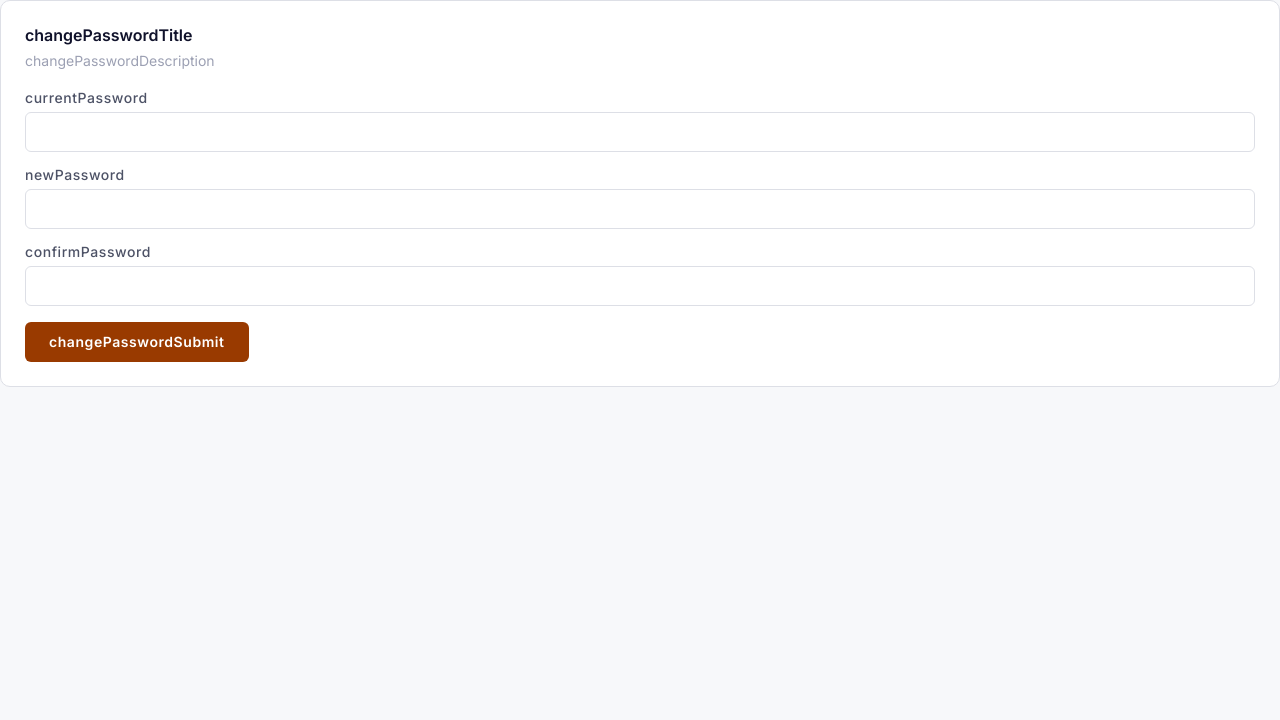
Test: ChangePasswordForm › shows validation error when passwords do not match
This screenshot has width=1280, height=720.
Type "OldPass1!" into the password field labelled "currentPassword" at (640, 132), box [25,112,1255,152]
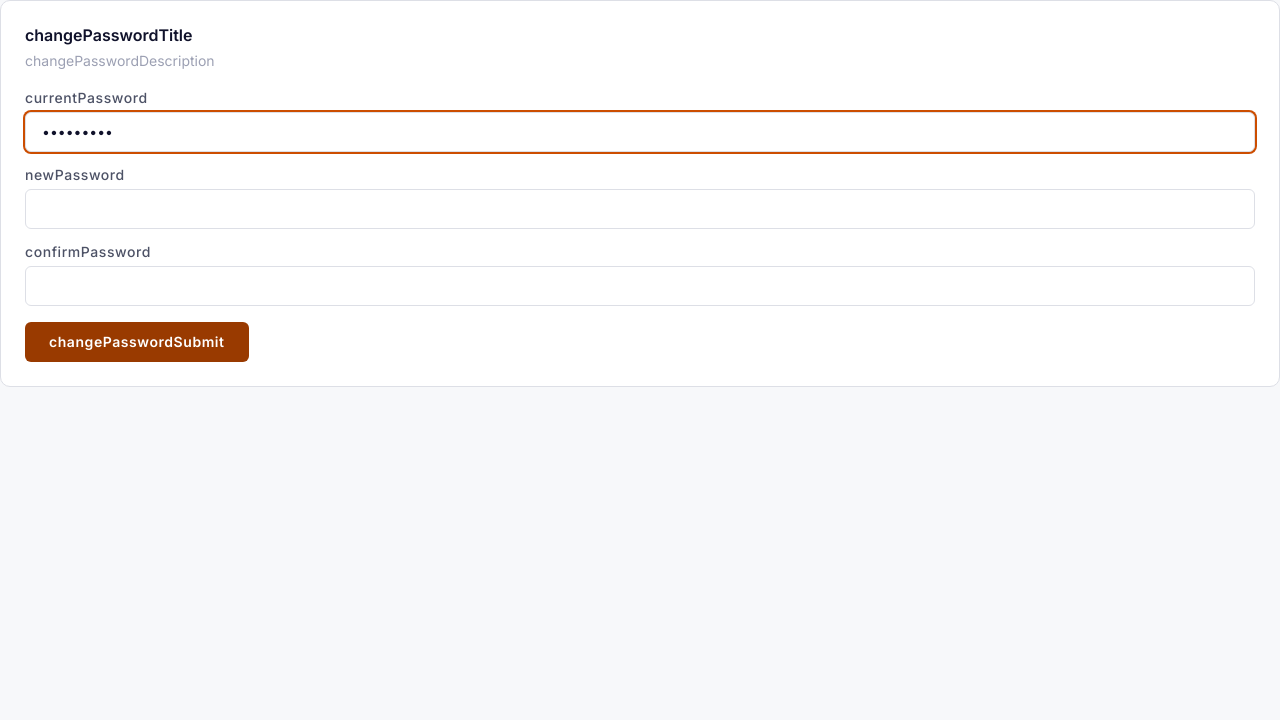
Type "SecurePass1!" into the password field labelled "newPassword" at (640, 209), box [25,189,1255,229]
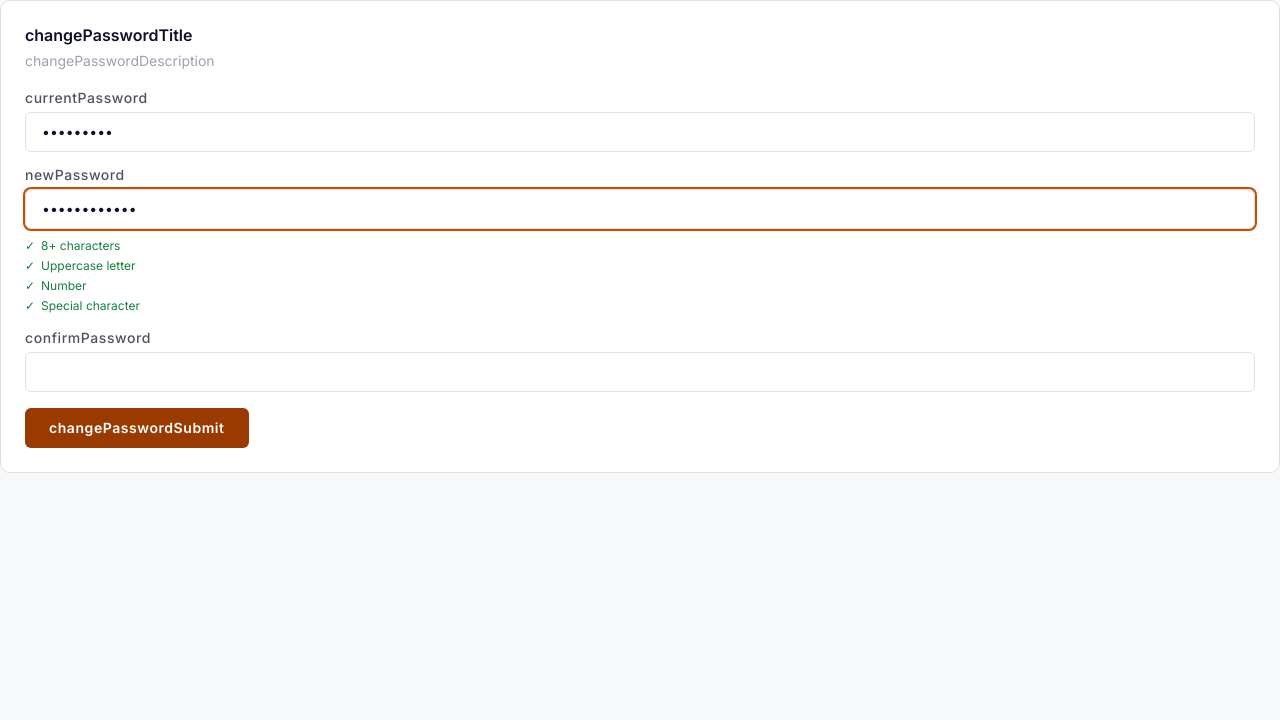
Type "Different1!" into the password field labelled "confirmPassword" at (640, 372), box [25,352,1255,392]
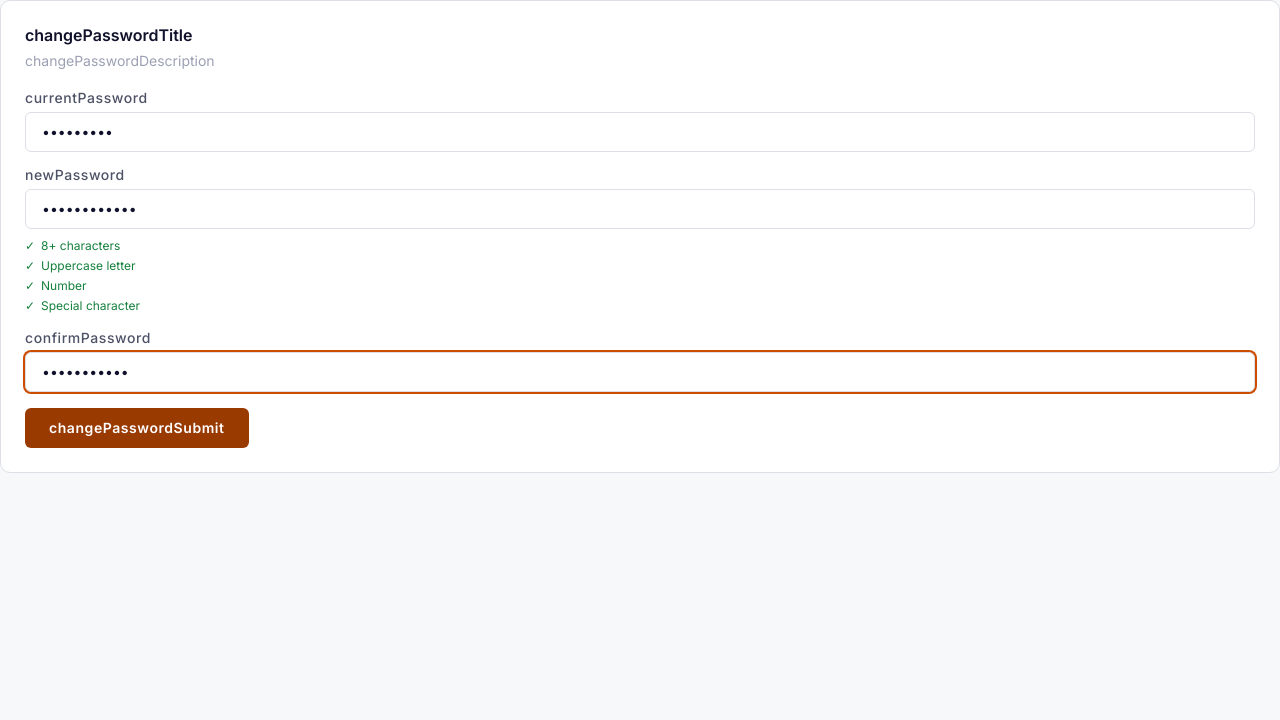
Click the button "changePasswordSubmit" at (137, 428), box [25,408,249,448]
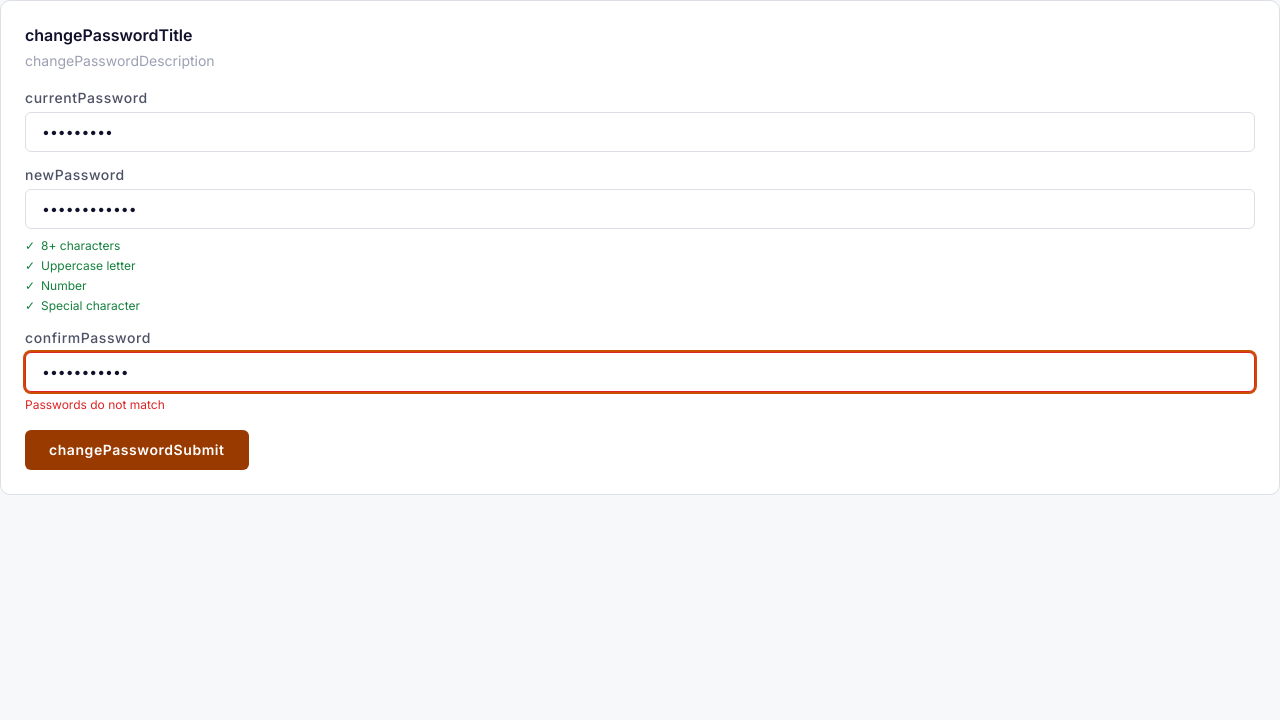
Expected: the message "Passwords do not match" is shown, [25,397,165,412]
